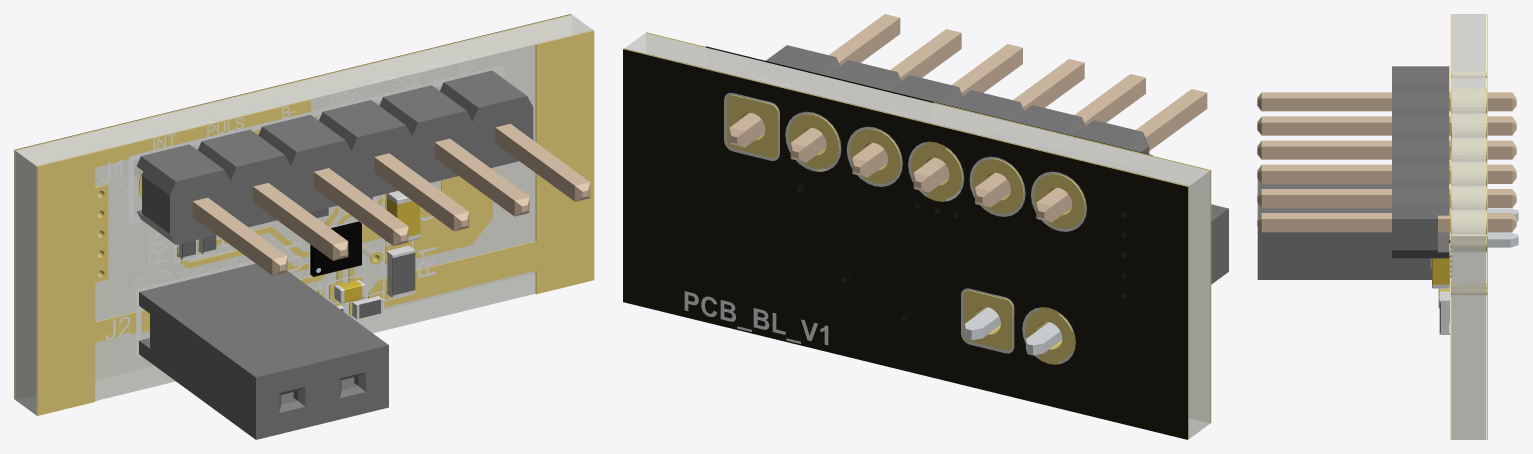
Rendered from BatteryLogger.glb.
3 views of the same model, side by side, from view 1: azimuth 30°, elevation 25°; view 2: azimuth 150°, elevation 25°; view 3: azimuth 270°, elevation 25° (orthographic). The views are drawn at different scales.
Parts seen in each view (by area): view 1: Core, ComponentBody.30, ComponentBody.28, BATT_N, CELL_P, ComponentBody.29, Top, BATT_P, ComponentBody.15, ComponentBody.24, Solder_Bottom, ComponentBody.26; view 2: Solder_Bottom, Core, ComponentBody.29, Pad.11, ComponentBody.30, Pad.10, BATT_N, ComponentBody.27, Bottom, ComponentBody.28, Solder_Top; view 3: ComponentBody.29, Core, ComponentBody.30, ComponentBody.28, Pad.11, BATT_N, ComponentBody.27, ComponentBody.26, CELL_P, BATT_P, ComponentBody.22.
Boxes of the visible parts, bbox=[...] form: Core: bbox=[15, 15, 593, 415]; ComponentBody.30: bbox=[136, 70, 533, 244]; ComponentBody.28: bbox=[139, 263, 388, 439]; BATT_N: bbox=[14, 14, 571, 415]; CELL_P: bbox=[368, 30, 594, 307]; ComponentBody.29: bbox=[192, 124, 590, 275]; Top: bbox=[100, 63, 504, 356]; BATT_P: bbox=[298, 167, 492, 296]; ComponentBody.15: bbox=[310, 221, 361, 276]; ComponentBody.24: bbox=[392, 253, 415, 295]; Solder_Bottom: bbox=[14, 14, 570, 398]; ComponentBody.26: bbox=[386, 197, 420, 236]; Solder_Bottom: bbox=[623, 49, 1187, 439]; Core: bbox=[624, 33, 1210, 438]; ComponentBody.29: bbox=[729, 14, 1207, 222]; Pad.11: bbox=[727, 95, 1085, 228]; ComponentBody.30: bbox=[766, 45, 1149, 154]; Pad.10: bbox=[963, 290, 1073, 361]; BATT_N: bbox=[623, 48, 1211, 439]; ComponentBody.27: bbox=[964, 307, 1062, 355]; Bottom: bbox=[684, 291, 828, 345]; ComponentBody.28: bbox=[1211, 204, 1228, 284]; Solder_Top: bbox=[705, 46, 1152, 155]; ComponentBody.29: bbox=[1257, 92, 1516, 232]; Core: bbox=[1452, 14, 1486, 439]; ComponentBody.30: bbox=[1392, 66, 1449, 258]; ComponentBody.28: bbox=[1257, 179, 1431, 279]; Pad.11: bbox=[1450, 89, 1486, 234]; BATT_N: bbox=[1450, 14, 1487, 439]; ComponentBody.27: bbox=[1450, 208, 1518, 247]; ComponentBody.26: bbox=[1432, 256, 1449, 284]; CELL_P: bbox=[1450, 213, 1451, 439]; BATT_P: bbox=[1450, 192, 1486, 295]; ComponentBody.22: bbox=[1441, 301, 1448, 334].
Size of the model in its own units: 2.34 by 1 by 1.16.
